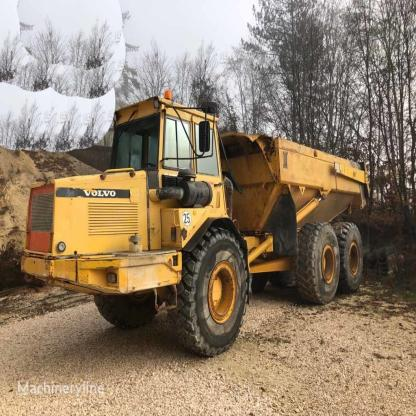dump_truck: (20, 86, 385, 354)
